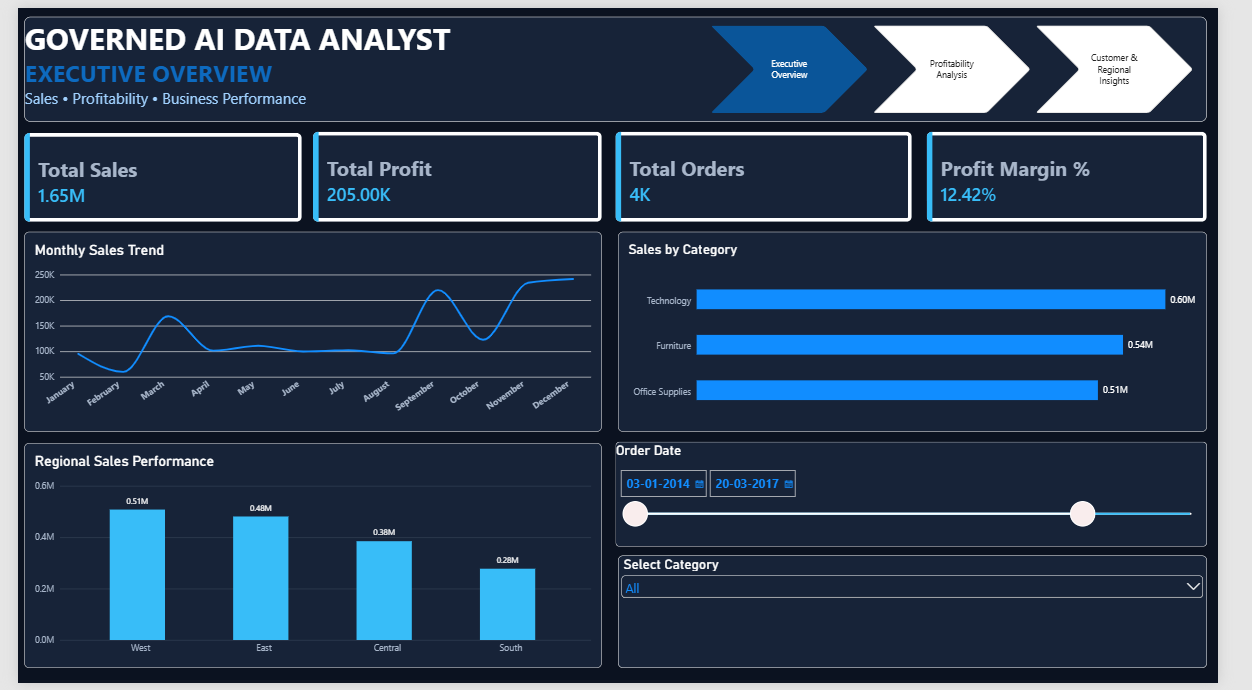

The page's visual inventory and layout, read from the dashboard file:
{"tool":"powerbi","page":{"name":"Executive Overview","canvas":[1920,1080],"ordinal":0},"visuals":[{"type":"textbox","box":[10,14,1892,168],"z":0},{"type":"cardVisual","fields":{"Data":["superstore_for_powerbi.Total Sales"]},"box":[10,200,444,142],"z":1000},{"type":"cardVisual","fields":{"Data":["superstore_for_powerbi.Total Profit"]},"box":[472,198,462,144],"z":2000},{"type":"cardVisual","fields":{"Data":["superstore_for_powerbi.Total Orders"]},"box":[956,198,474,144],"z":3000},{"type":"cardVisual","fields":{"Data":["superstore_for_powerbi.Profit Margin %"]},"box":[1454,198,448,144],"z":4000},{"type":"lineChart","title":"Monthly Sales Trend","fields":{"Category":["superstore_for_powerbi.Order Date.Variation.Date Hierarchy.Month"],"Y":["superstore_for_powerbi.Total Sales"]},"box":[10,358,924,320],"z":5000},{"type":"clusteredBarChart","title":"Sales by Category","fields":{"Category":["superstore_for_powerbi.Category"],"Y":["superstore_for_powerbi.Total Sales"]},"box":[960,358,942,320],"z":6000},{"type":"clusteredColumnChart","title":"Regional Sales Performance","fields":{"Category":["superstore_for_powerbi.Region"],"Y":["superstore_for_powerbi.Total Sales"]},"box":[10,696,924,360],"z":7000},{"type":"slicer","title":"Order Date","fields":{"Values":["superstore_for_powerbi.Order Date"]},"box":[956,694,946,168],"z":8000},{"type":"slicer","fields":{"Values":["superstore_for_powerbi.Category"]},"box":[960,876,942,180],"z":9000},{"type":"pageNavigator","box":[1108,28,774,140],"z":9001}]}

Visuals, with their boxes in screenshot pixels (x1, y1, x2, y2), scaled from the page's 1920x1080 canvas onto the 1252x690 screenshot:
textbox: 7/9/1240/116
cardVisual - superstore_for_powerbi.Total Sales: 7/128/296/218
cardVisual - superstore_for_powerbi.Total Profit: 308/126/609/218
cardVisual - superstore_for_powerbi.Total Orders: 623/126/932/218
cardVisual - superstore_for_powerbi.Profit Margin %: 948/126/1240/218
"Monthly Sales Trend" lineChart: 7/229/609/433
"Sales by Category" clusteredBarChart: 626/229/1240/433
"Regional Sales Performance" clusteredColumnChart: 7/445/609/675
"Order Date" slicer: 623/443/1240/551
slicer - superstore_for_powerbi.Category: 626/560/1240/675
pageNavigator: 723/18/1227/107
